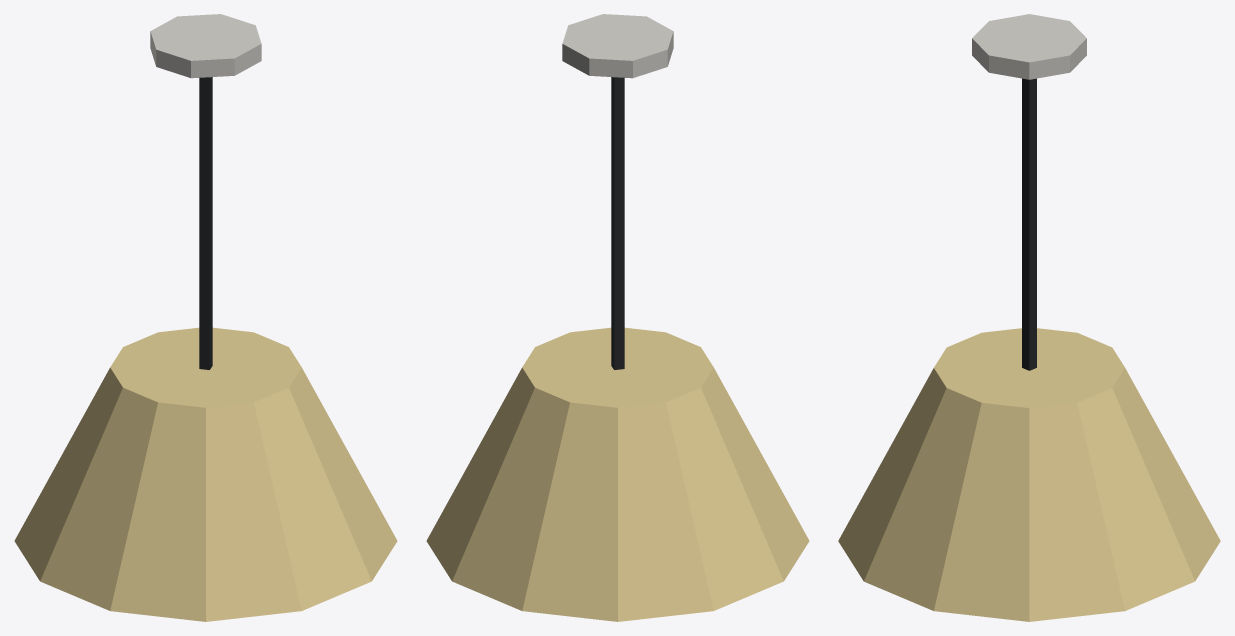
File: ceiling_light.glb
The picture shows the model from 3 angles, left to right: view 1: azimuth 30°, elevation 25°; view 2: azimuth 150°, elevation 25°; view 3: azimuth 270°, elevation 25°; orthographic projection.
Visible parts, largest first — view 1: ceiling_light; view 2: ceiling_light; view 3: ceiling_light.
Boxes of the visible parts, left/top/right/bottom form: ceiling_light: left=14, top=14, right=397, bottom=621; ceiling_light: left=426, top=14, right=809, bottom=621; ceiling_light: left=838, top=14, right=1220, bottom=621.
Size of the model in its own units: 0.4 by 0.58 by 0.4.
